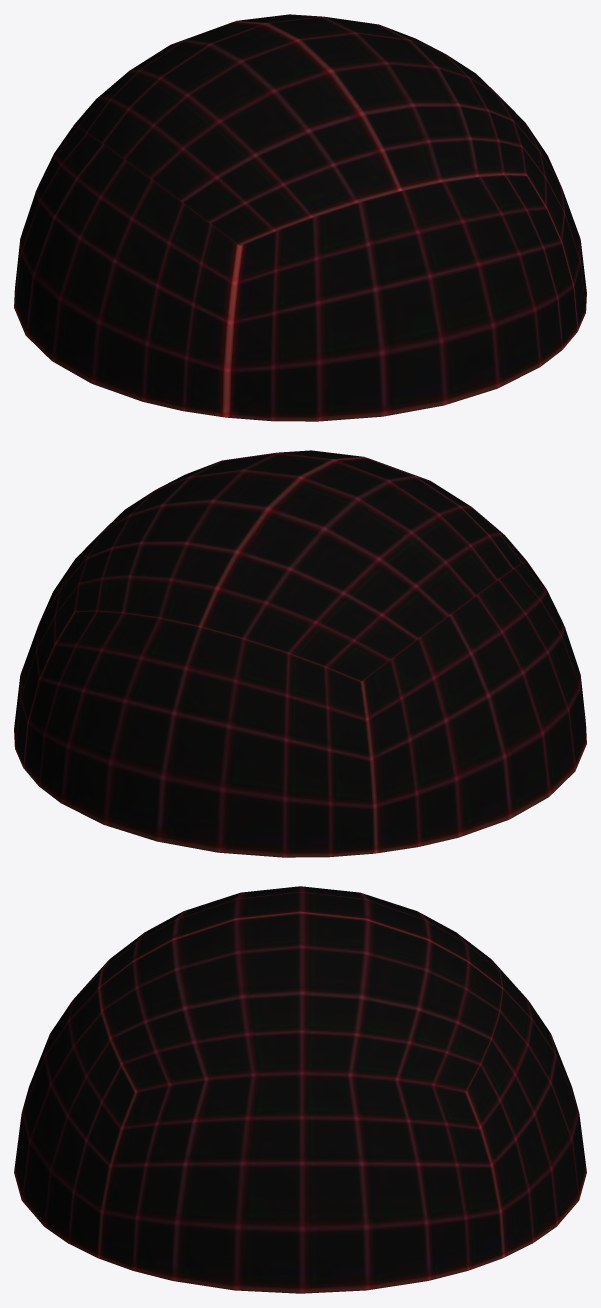
3 renders of one model, top to bottom at view 1: azimuth 30°, elevation 25°; view 2: azimuth 150°, elevation 25°; view 3: azimuth 270°, elevation 25°, orthographic.
Visible parts, largest first — view 1: SM_Placeholder_Hemisphere_LOD0; view 2: SM_Placeholder_Hemisphere_LOD0; view 3: SM_Placeholder_Hemisphere_LOD0.
Part boxes in pixels (box(x1,y1,x2,y2)): SM_Placeholder_Hemisphere_LOD0: box(14, 14, 586, 421); SM_Placeholder_Hemisphere_LOD0: box(14, 450, 586, 857); SM_Placeholder_Hemisphere_LOD0: box(14, 886, 586, 1293).
Size of the model in its own units: 0.9986 by 0.4993 by 0.9986.
1 material, 1 textured.
